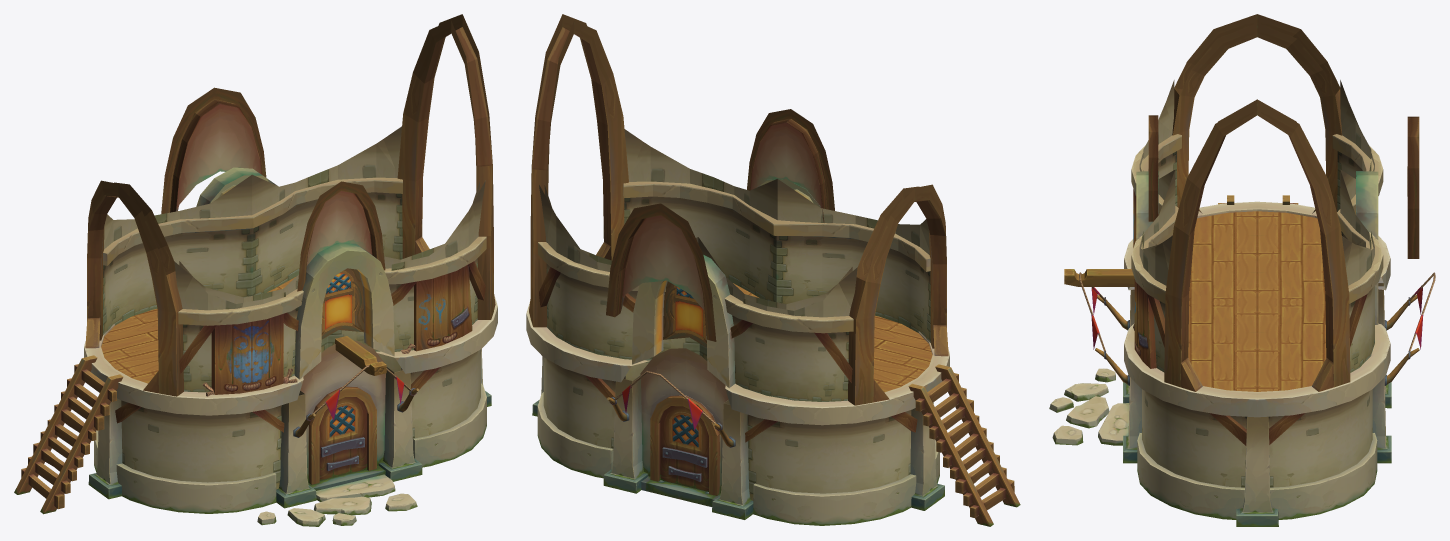
The model's file is map_1002_caowu_01_a.FBX.
3 views of the same model, side by side, from view 1: azimuth 30°, elevation 25°; view 2: azimuth 150°, elevation 25°; view 3: azimuth 270°, elevation 25° (orthographic). The views are drawn at different scales.
Parts seen in each view (by area): view 1: map_1002_caowu_01_a; view 2: map_1002_caowu_01_a; view 3: map_1002_caowu_01_a.
Part boxes in pixels (x1,y1,x2,y2): map_1002_caowu_01_a: (14,14,497,526); map_1002_caowu_01_a: (526,14,1020,526); map_1002_caowu_01_a: (1049,14,1435,526).
Bounding box in the file's own units: 13.89 × 11.42 × 9.63.
